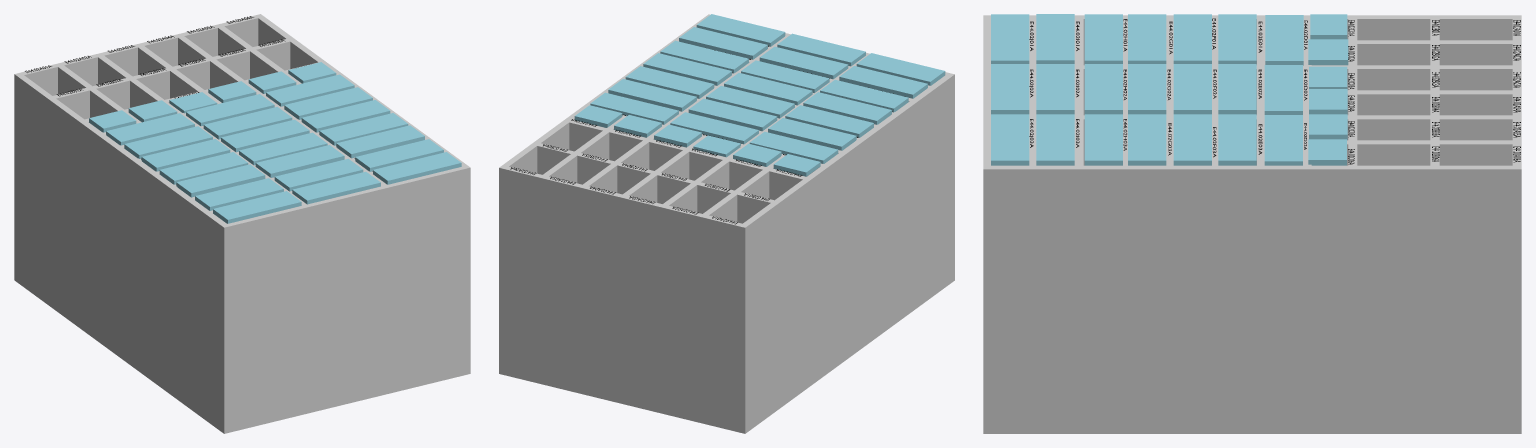
The model's file is armoire2.glb.
3 views of the same model, side by side, from view 1: azimuth 30°, elevation 25°; view 2: azimuth 150°, elevation 25°; view 3: azimuth 270°, elevation 25° (orthographic). The views are drawn at different scales.
Visible parts, largest first — view 1: armoire (2), E4402J01A, E4402J03A, E4402J02A, E4402H01A, E4402H02A, E4402H03A, E4402F01A, E4402F03A, E4402D01A, E4402F02A, E4402I01A (+16 smaller); view 2: armoire (2), E4402I01A, E4402E01A, E4402I02A, E4402I03A, E4402E03A, E4402E02A, E4402G01A, E4402G03A, E4402G02A, E4402J03A, E4402J01A (+16 smaller); view 3: armoire (2), E4402E03A, E4402F03A, E4402G03A, E4402H03A, E4402I03A, E4402J03A, E4402D03A, E4402E02A, E4402I02A, E4402F02A, E4402G02A (+21 smaller).
Part boxes in pixels (left/top/right/bottom): armoire (2): left=14, top=14, right=470, bottom=433; E4402J01A: left=213, top=191, right=301, bottom=223; E4402J03A: left=373, top=152, right=461, bottom=184; E4402J02A: left=292, top=171, right=380, bottom=204; E4402H01A: left=176, top=164, right=265, bottom=197; E4402H02A: left=255, top=145, right=344, bottom=177; E4402H03A: left=336, top=125, right=424, bottom=158; E4402F01A: left=141, top=139, right=230, bottom=171; E4402F03A: left=301, top=100, right=390, bottom=132; E4402D01A: left=106, top=113, right=194, bottom=145; E4402F02A: left=221, top=119, right=309, bottom=152; E4402I01A: left=195, top=178, right=283, bottom=210; armoire (2): left=499, top=14, right=954, bottom=433; E4402I01A: left=839, top=66, right=927, bottom=98; E4402E01A: left=768, top=118, right=856, bottom=150; E4402I02A: left=759, top=46, right=848, bottom=79; E4402I03A: left=679, top=27, right=767, bottom=59; E4402E03A: left=608, top=79, right=696, bottom=111; E4402E02A: left=688, top=98, right=777, bottom=131; E4402G01A: left=803, top=92, right=891, bottom=124; E4402G03A: left=643, top=53, right=731, bottom=85; E4402G02A: left=724, top=73, right=812, bottom=105; E4402J03A: left=696, top=14, right=785, bottom=46; E4402J01A: left=856, top=53, right=945, bottom=85; armoire (2): left=983, top=15, right=1521, bottom=433; E4402E03A: left=1218, top=114, right=1256, bottom=165; E4402F03A: left=1173, top=114, right=1211, bottom=165; E4402G03A: left=1128, top=114, right=1166, bottom=165; E4402H03A: left=1084, top=114, right=1122, bottom=165; E4402I03A: left=1036, top=114, right=1074, bottom=165; E4402J03A: left=991, top=114, right=1029, bottom=165; E4402D03A: left=1264, top=115, right=1302, bottom=165; E4402E02A: left=1218, top=64, right=1256, bottom=114; E4402I02A: left=1036, top=64, right=1074, bottom=114; E4402F02A: left=1173, top=64, right=1211, bottom=114; E4402G02A: left=1128, top=64, right=1166, bottom=114.
Bounding box in the file's own units: 20 × 16.31 × 29.5.
